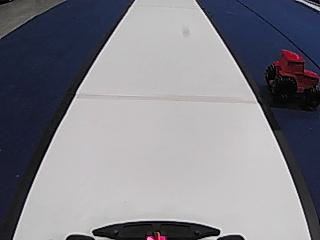Tracktor: (264, 46, 319, 108)
